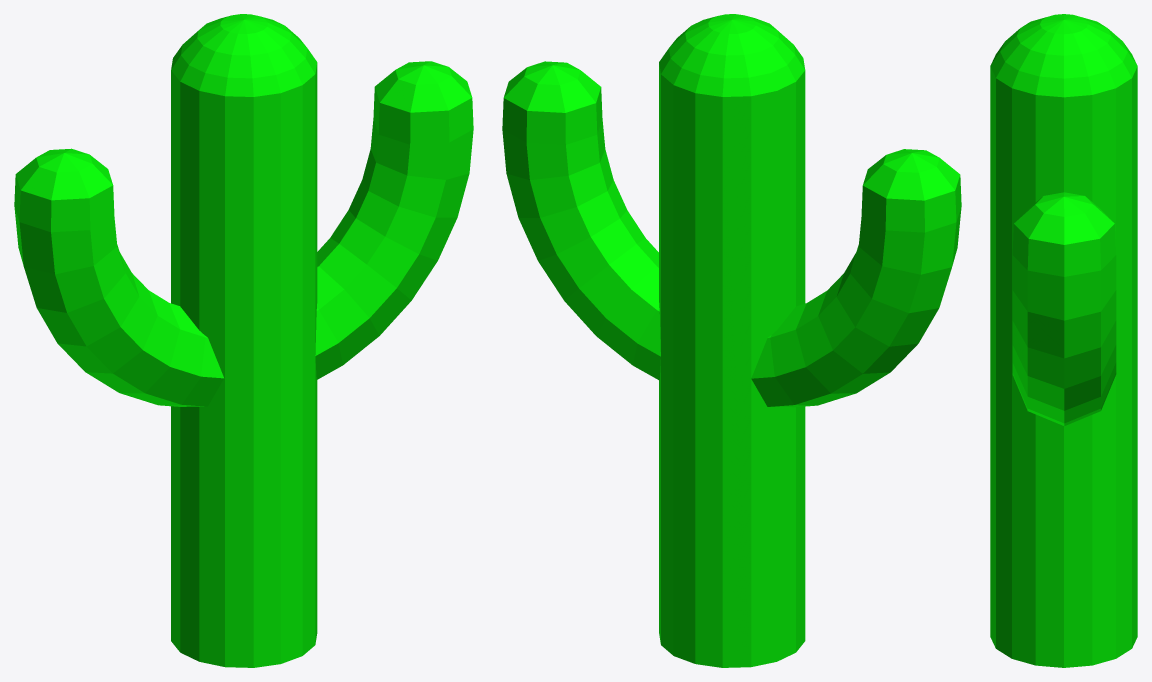
File: Cactus_BG.fbx
3 renders of one model, left to right at view 1: azimuth 30°, elevation 25°; view 2: azimuth 150°, elevation 25°; view 3: azimuth 270°, elevation 25°, orthographic.
Visible parts, largest first — view 1: Cactus; view 2: Cactus; view 3: Cactus.
Part boxes in pixels (x1=…): Cactus: x1=14, y1=14, x2=473, y2=667; Cactus: x1=502, y1=14, x2=961, y2=667; Cactus: x1=990, y1=14, x2=1137, y2=667.
Bounding box in the file's own units: 239 × 314 × 68.
